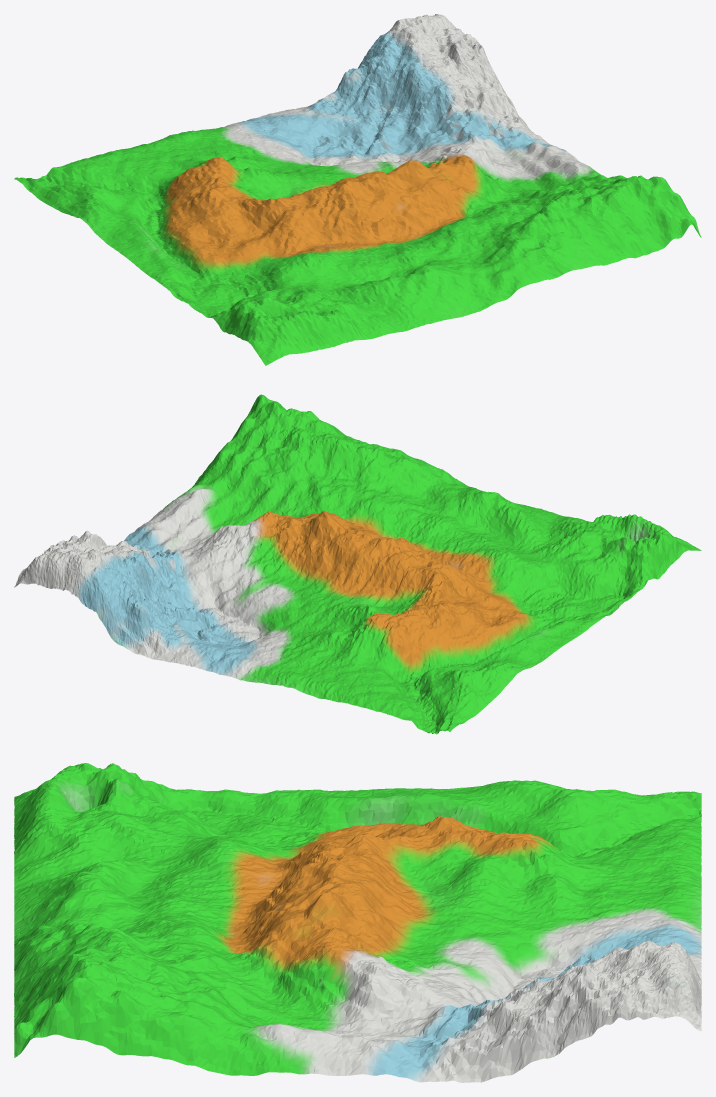
The model's file is map01.fbx.
The picture shows the model from 3 angles, top to bottom: view 1: azimuth 30°, elevation 25°; view 2: azimuth 150°, elevation 25°; view 3: azimuth 270°, elevation 25°; orthographic projection. The views are drawn at different scales.
Visible parts, largest first — view 1: Terrain; view 2: Terrain; view 3: Terrain.
Part boxes in pixels (bbox=[...]): Terrain: bbox=[14, 14, 701, 365]; Terrain: bbox=[14, 394, 701, 734]; Terrain: bbox=[14, 763, 701, 1082].
Bounding box in the file's own units: 100121 × 18547 × 100111.
